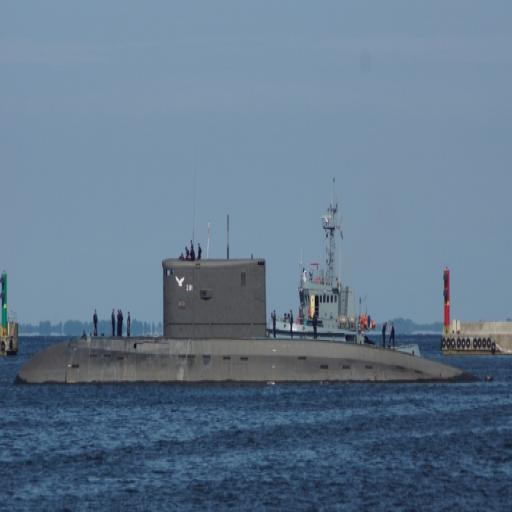submarine: (15, 256, 489, 387)
